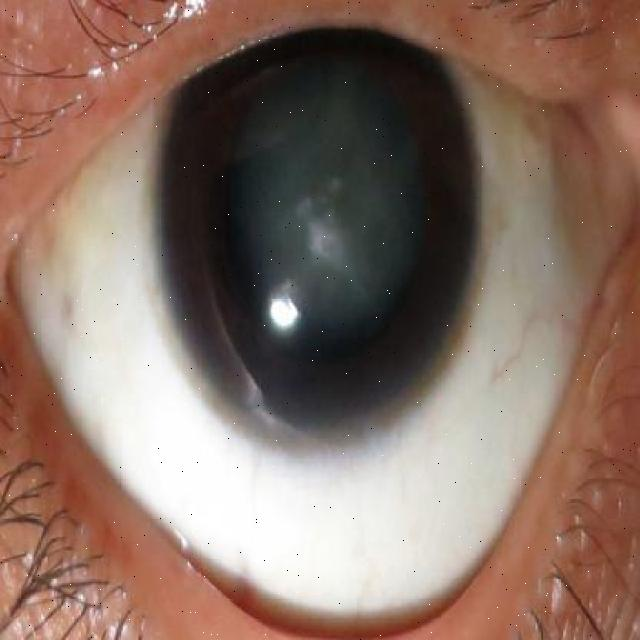Cataract: (149, 0, 476, 459)
